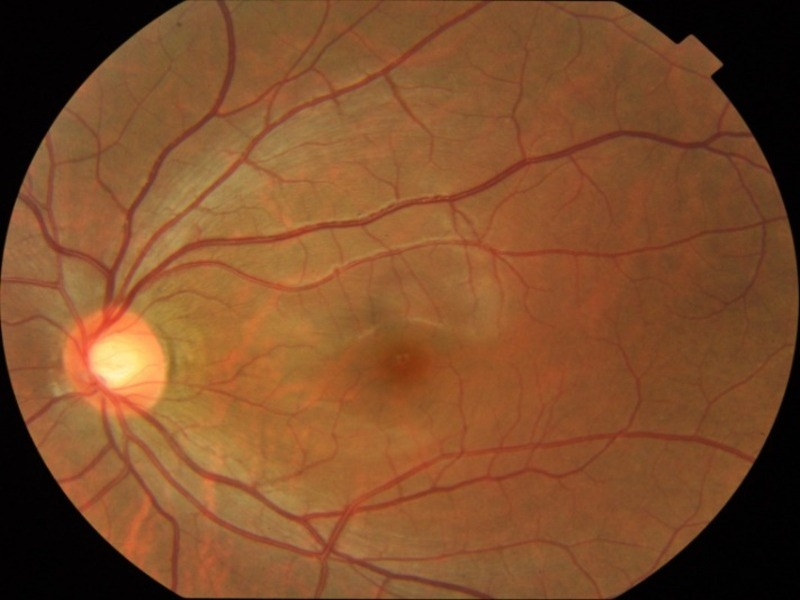Optic Cup: (91, 341, 138, 384)
Optic Disc: (62, 309, 167, 414)
